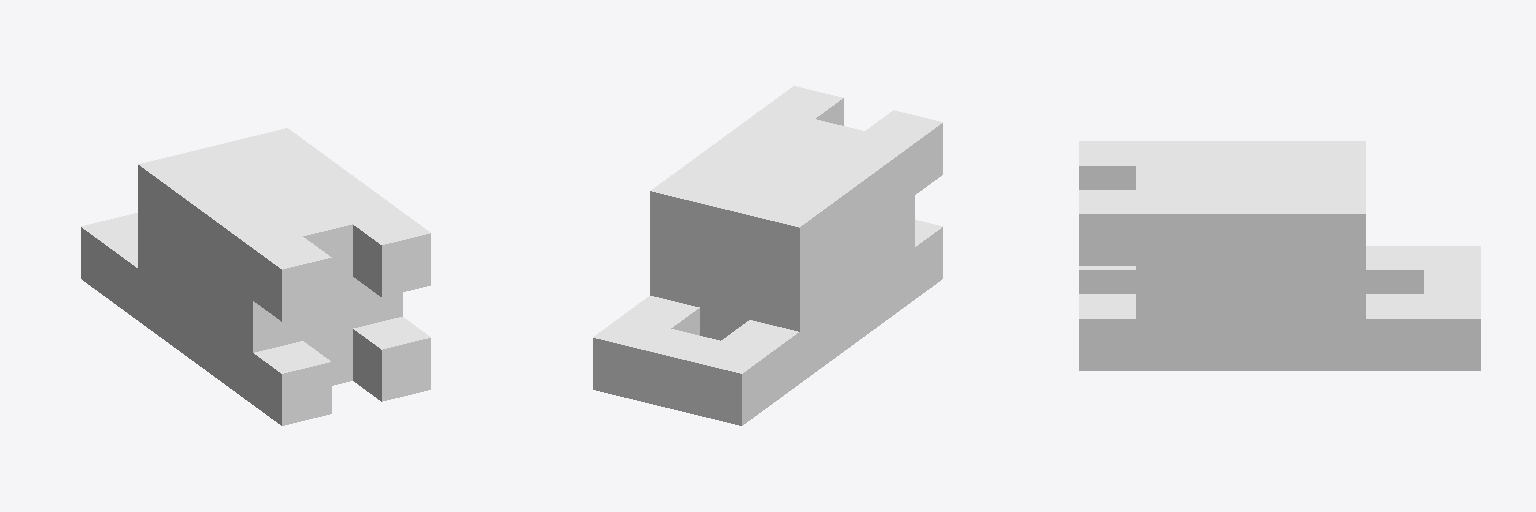
The model's file is Blasuitcase.obj.
The picture shows the model from 3 angles: view 1: azimuth 30°, elevation 25°; view 2: azimuth 150°, elevation 25°; view 3: azimuth 270°, elevation 25°; orthographic projection.
Parts seen in each view (by area): view 1: object 1; view 2: object 1; view 3: object 1.
Boxes of the visible parts, x1,y1,x2,y2 form: object 1: [81, 128, 430, 425]; object 1: [593, 86, 942, 425]; object 1: [1079, 141, 1480, 370].
Size of the model in its own units: 0.3 by 0.3 by 0.7.